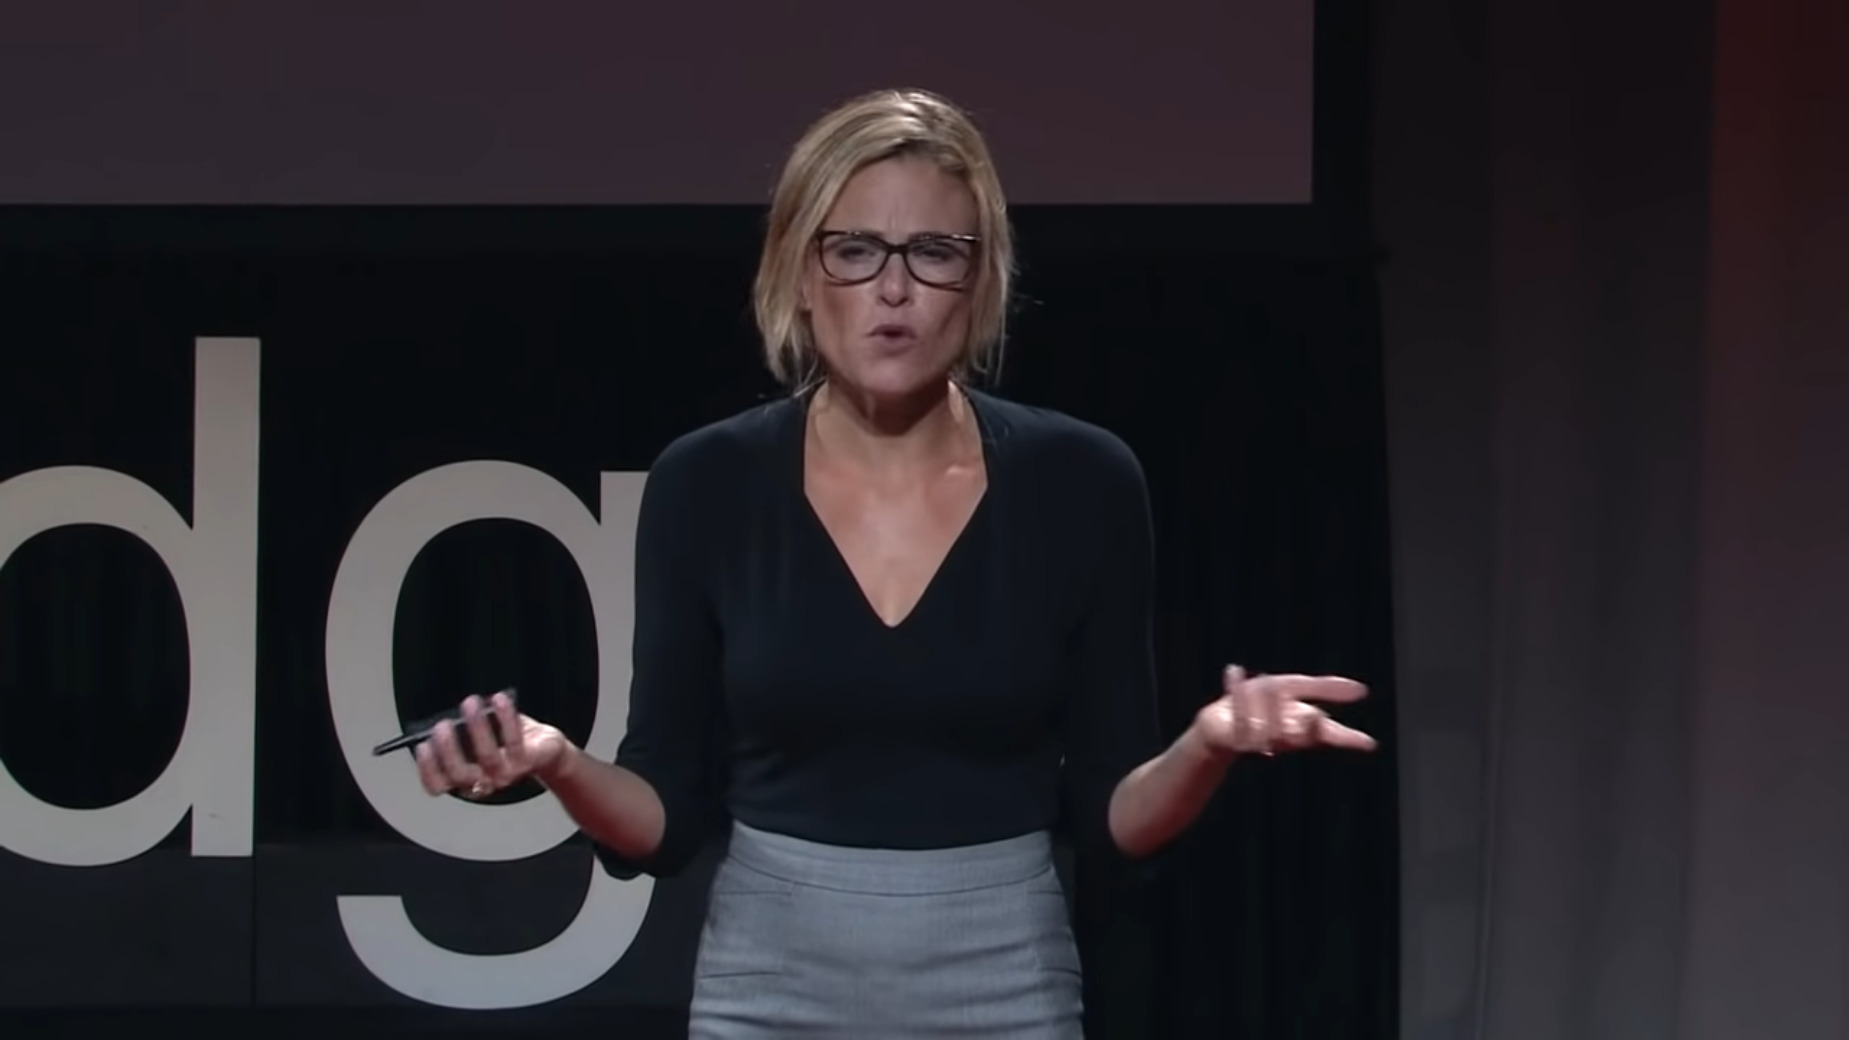hand: (1190, 651, 1385, 761), (381, 691, 570, 803)
